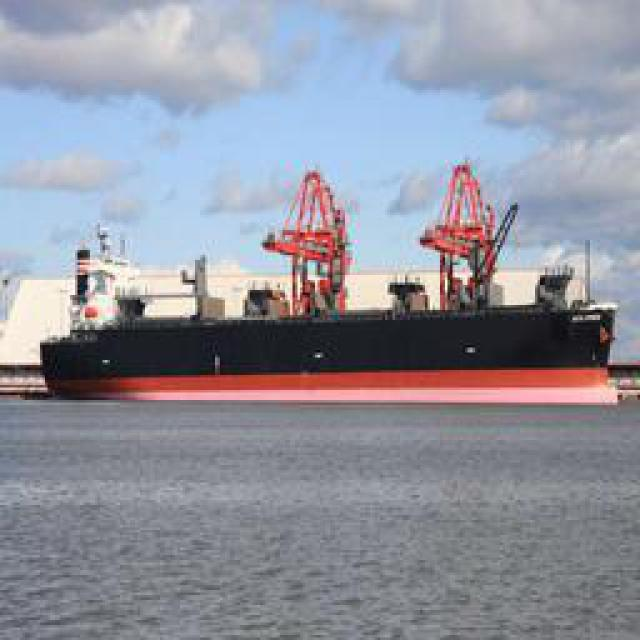Ship: (41, 160, 629, 385)
